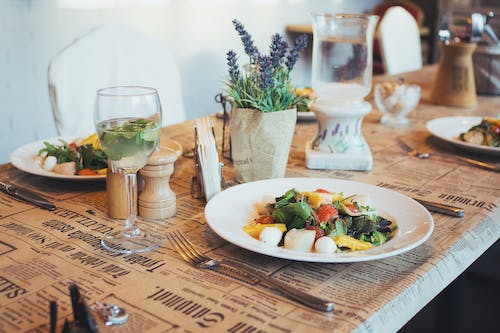knife: (0, 179, 57, 211)
